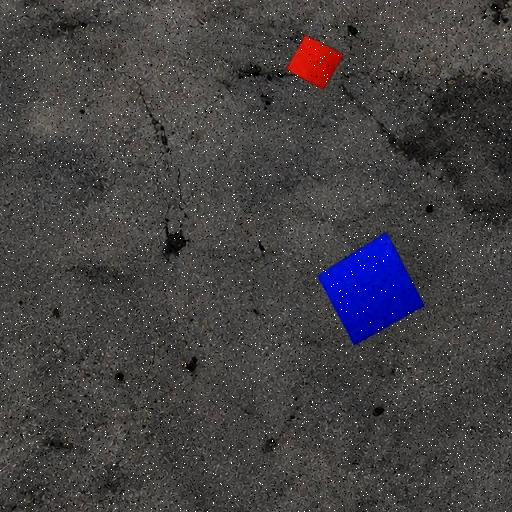BLUE_SQUARE: (317, 231, 425, 346)
RED_SQUARE: (286, 34, 344, 90)
